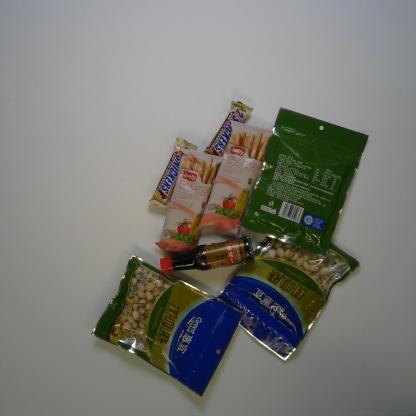Chocolate: (146, 135, 200, 208), (203, 100, 254, 160)
Dessert: (194, 120, 276, 241), (151, 146, 225, 254)
Dried Fruit: (87, 254, 249, 397), (214, 218, 360, 363), (237, 104, 370, 258)
Seasoner: (157, 234, 256, 274)
